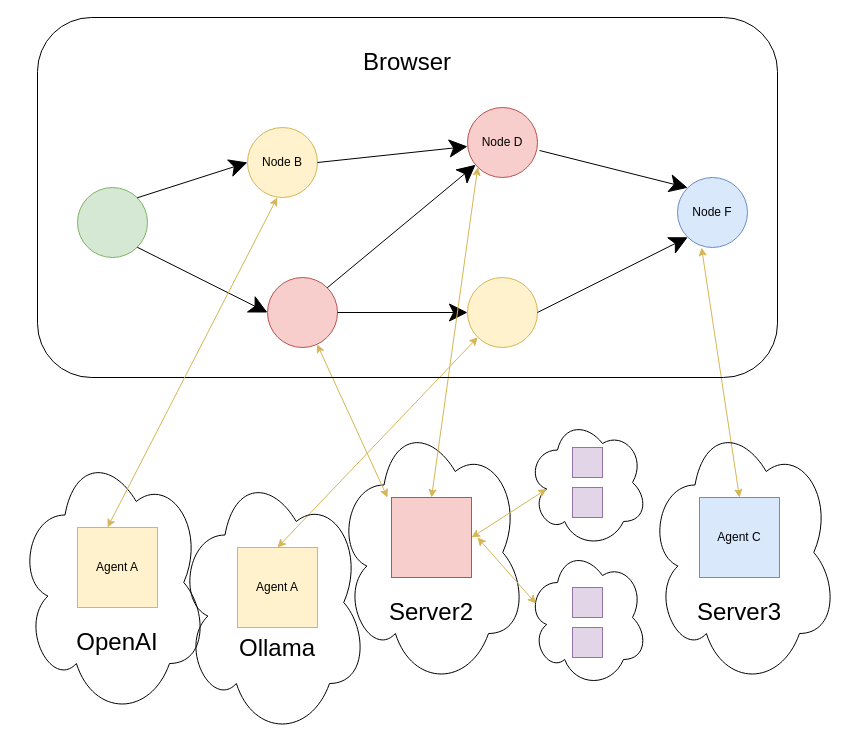
Some shapes in this 855 by 755 pixel diagram are drawn without their labels. The shapes that lost their labels are listed below. From the top down, each one's centre as x and y in pixels, then its label:
[112,222]: Node A
[302,312]: Node C
[502,312]: Node E
[431,537]: Agent B Nested Graph
